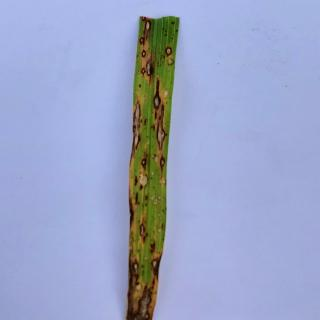Blast: (124, 212, 164, 320), (149, 92, 169, 164), (127, 165, 165, 199), (131, 99, 148, 155), (138, 50, 156, 78), (161, 38, 176, 62)
